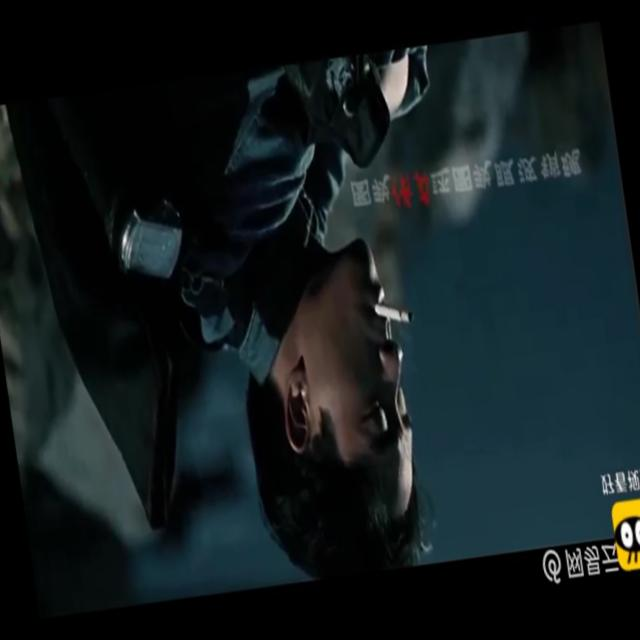cigarette: (378, 302, 415, 328)
